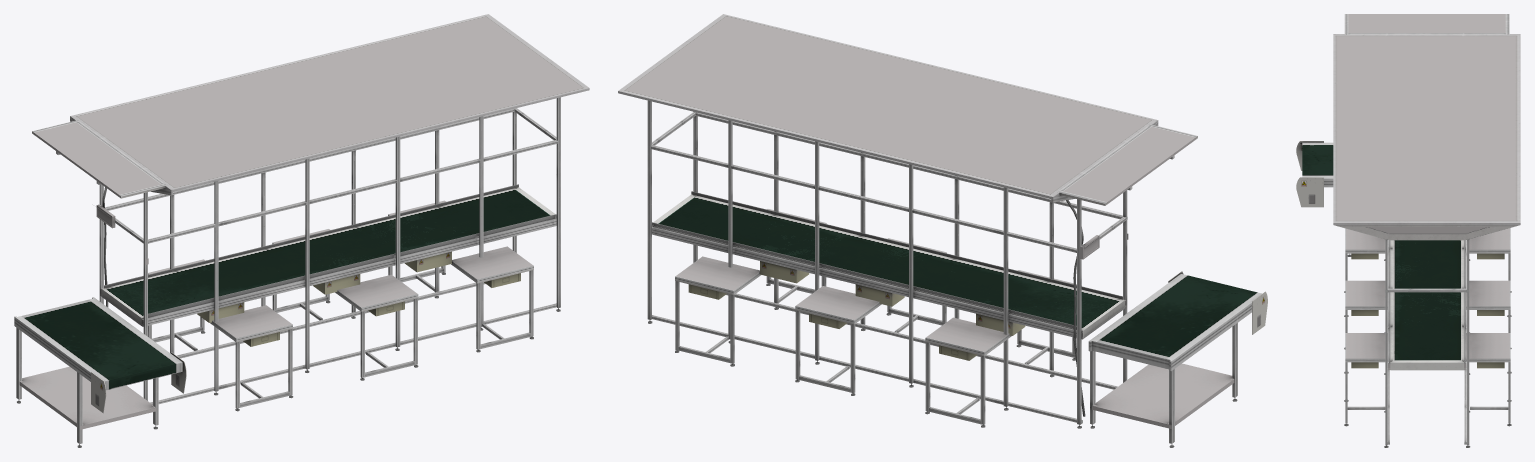
The model's file is qitou01_2.FBX.
3 renders of one model, left to right at view 1: azimuth 30°, elevation 25°; view 2: azimuth 150°, elevation 25°; view 3: azimuth 270°, elevation 25°, orthographic. The views are drawn at different scales.
Visible parts, largest first — view 1: YF_Model_qitou01_2; view 2: YF_Model_qitou01_2; view 3: YF_Model_qitou01_2.
Part boxes in pixels (box(x1,y1,x2,y2)): YF_Model_qitou01_2: box(14, 14, 589, 447); YF_Model_qitou01_2: box(618, 14, 1267, 447); YF_Model_qitou01_2: box(1296, 14, 1520, 447).
Size of the model in its own units: 663 by 306 by 276.
3 materials, 3 textured.
